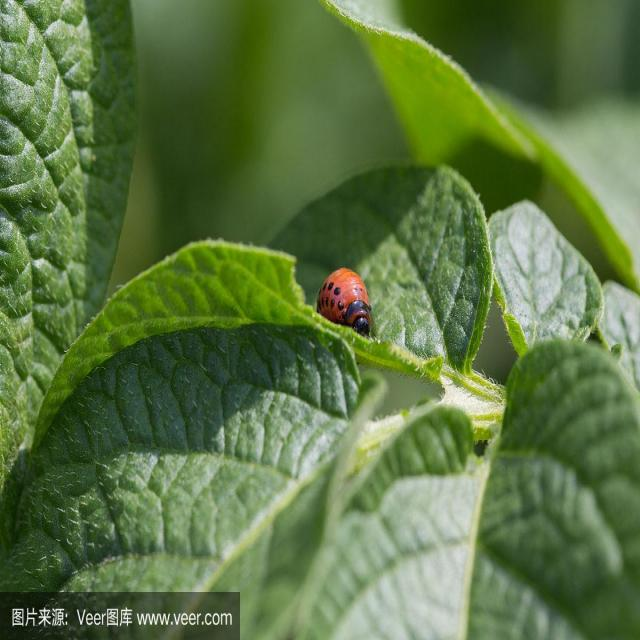ShuCaiHuaBanChong-Larva-: (316, 265, 375, 345)
